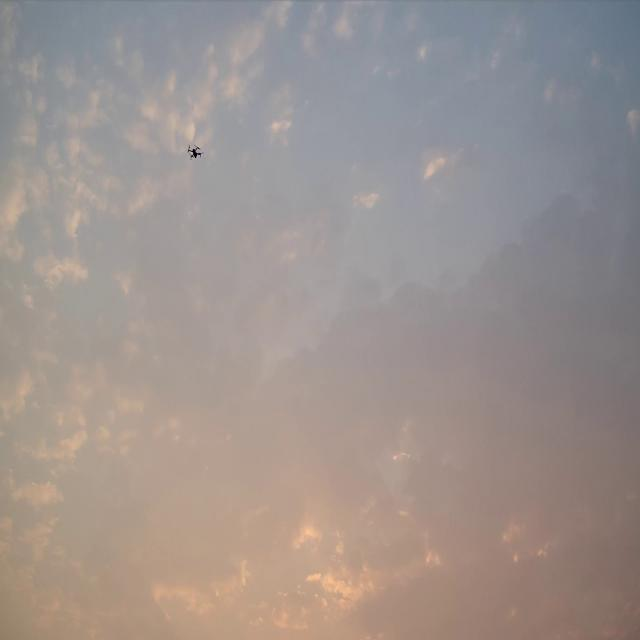drone: (187, 143, 204, 160)
